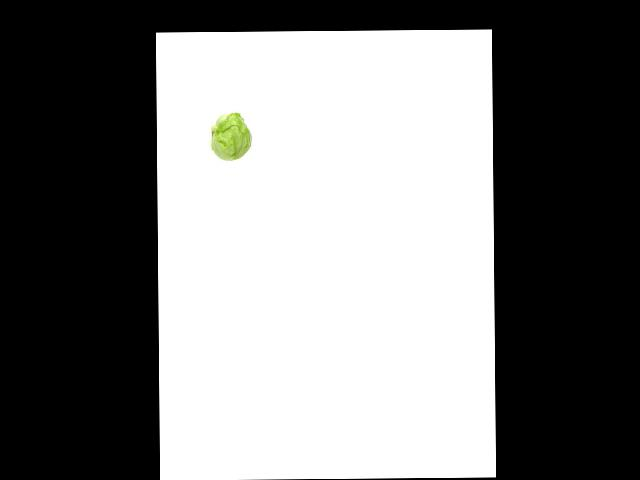lettuce: (211, 107, 256, 165)
